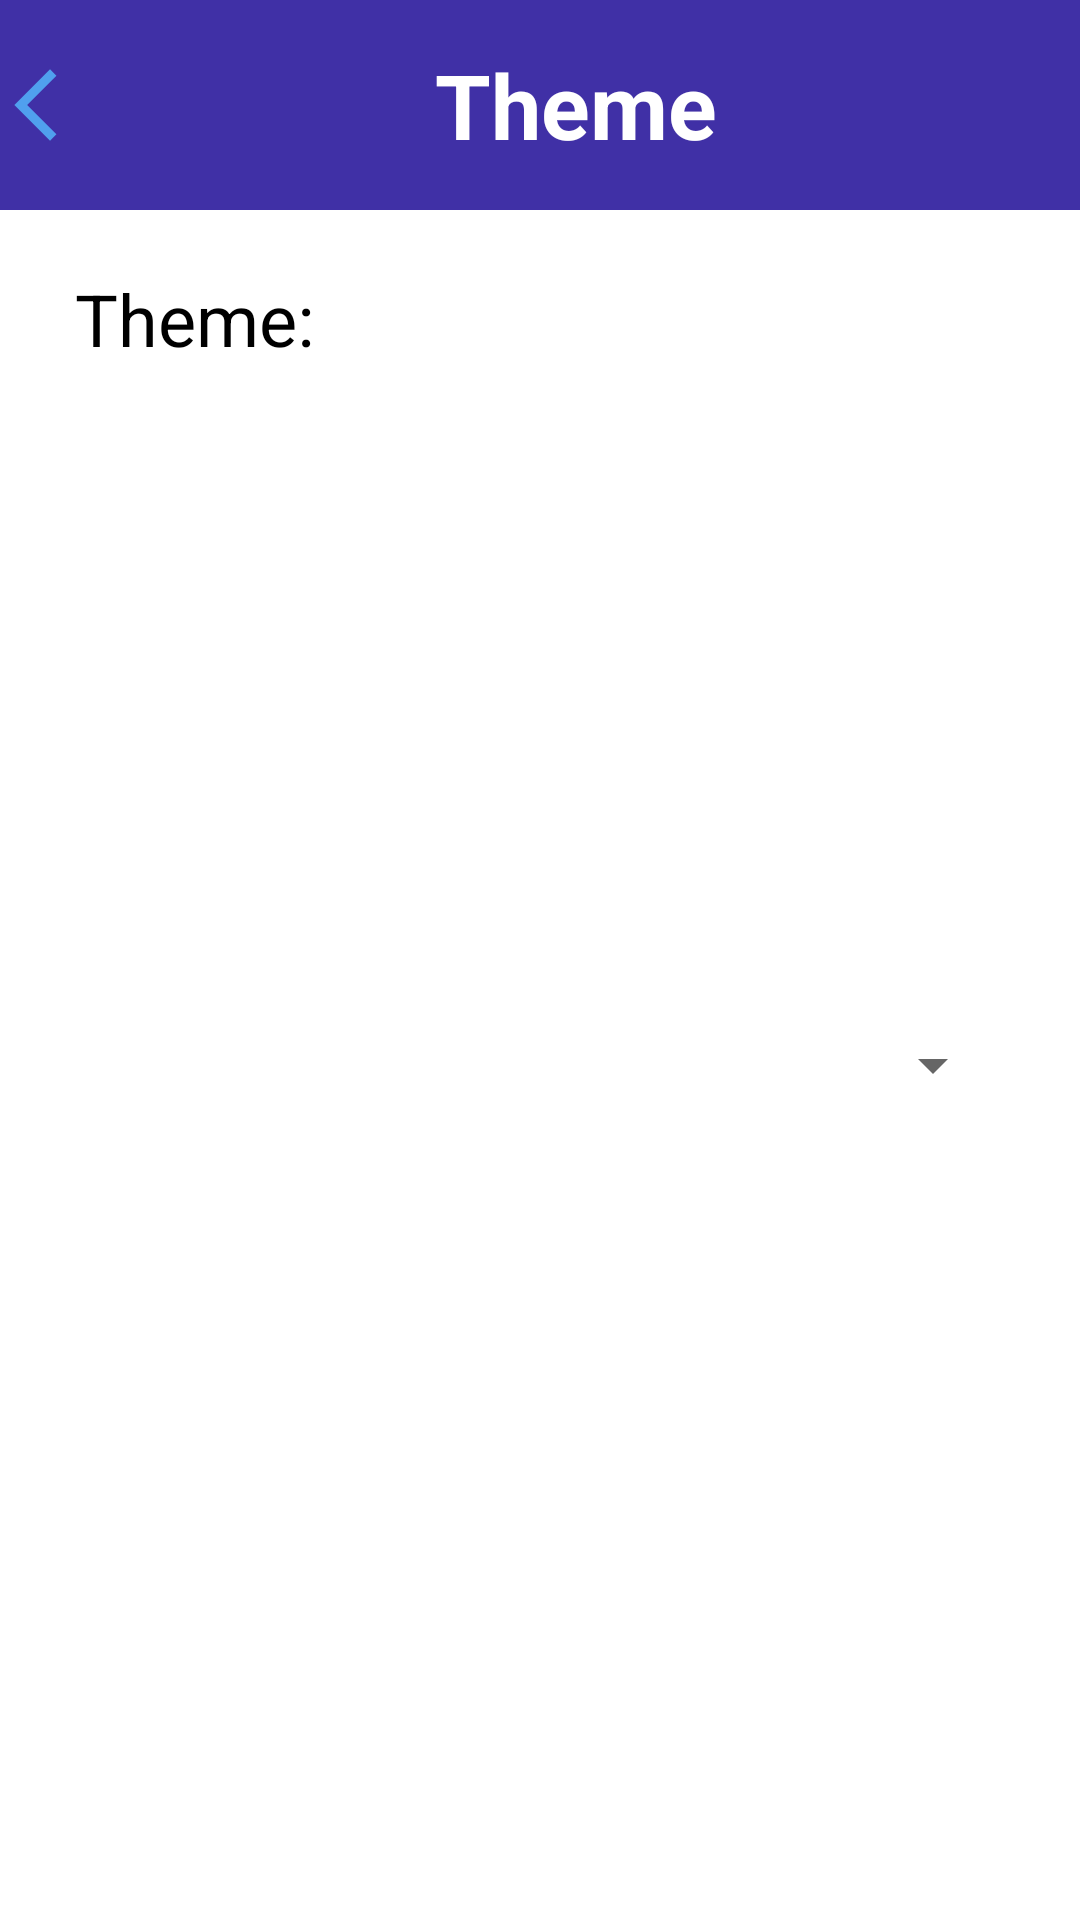

Where icons sit on this 1080×1920 app screen, as (left=x1, top=y1, right=x2, bottom=y2):
back: (left=15, top=69, right=56, bottom=141)
